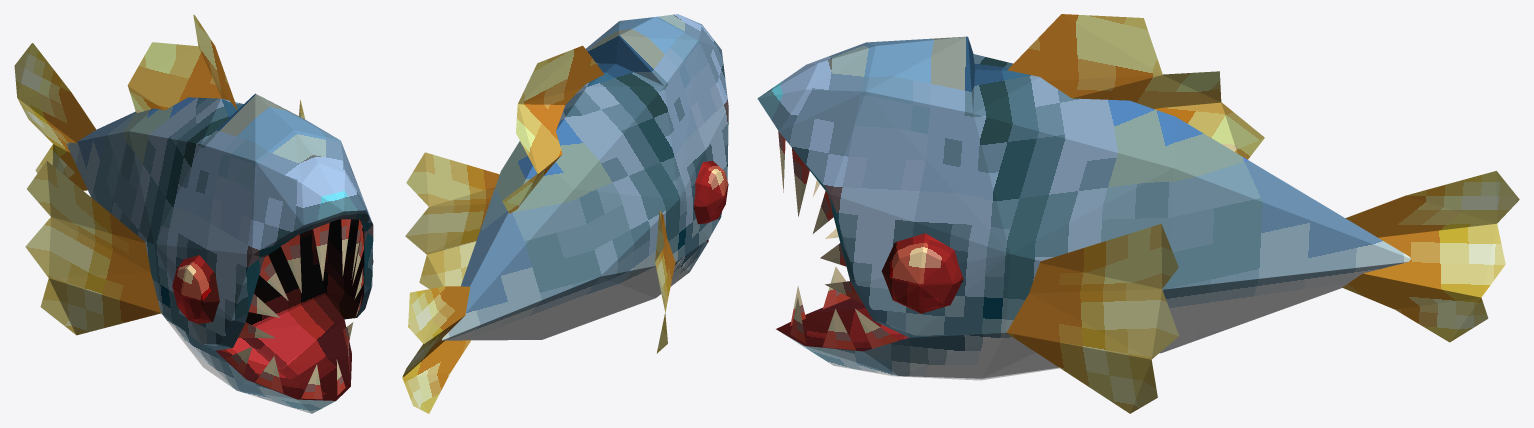
File: Piranha.obj
3 views of the same model, side by side, from view 1: azimuth 30°, elevation 25°; view 2: azimuth 150°, elevation 25°; view 3: azimuth 270°, elevation 25° (orthographic). The views are drawn at different scales.
Parts seen in each view (by area): view 1: Inst3D27_RefRep.238; view 2: Inst3D27_RefRep.238; view 3: Inst3D27_RefRep.238.
Boxes of the visible parts, bbox=[...] form: Inst3D27_RefRep.238: bbox=[14, 14, 373, 413]; Inst3D27_RefRep.238: bbox=[402, 14, 728, 413]; Inst3D27_RefRep.238: bbox=[757, 14, 1519, 413].
Size of the model in its own units: 3.07 by 3.27 by 6.11.
